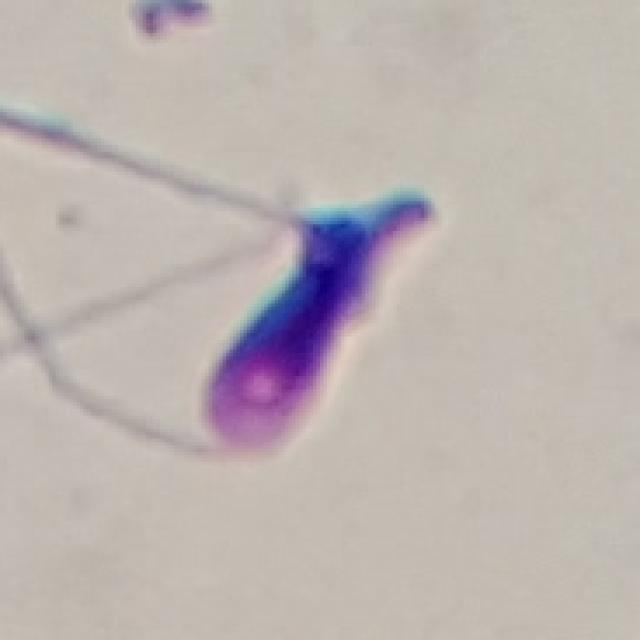abnormal sperm: (193, 185, 442, 458)
